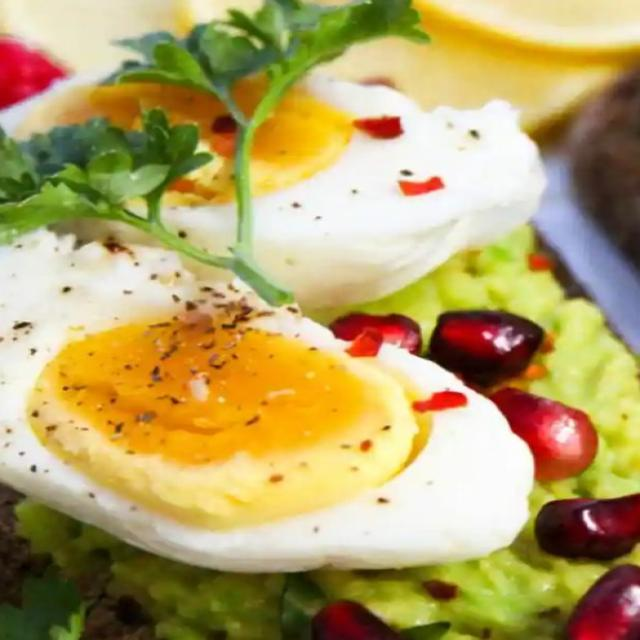EGG: (0, 0, 544, 573)
